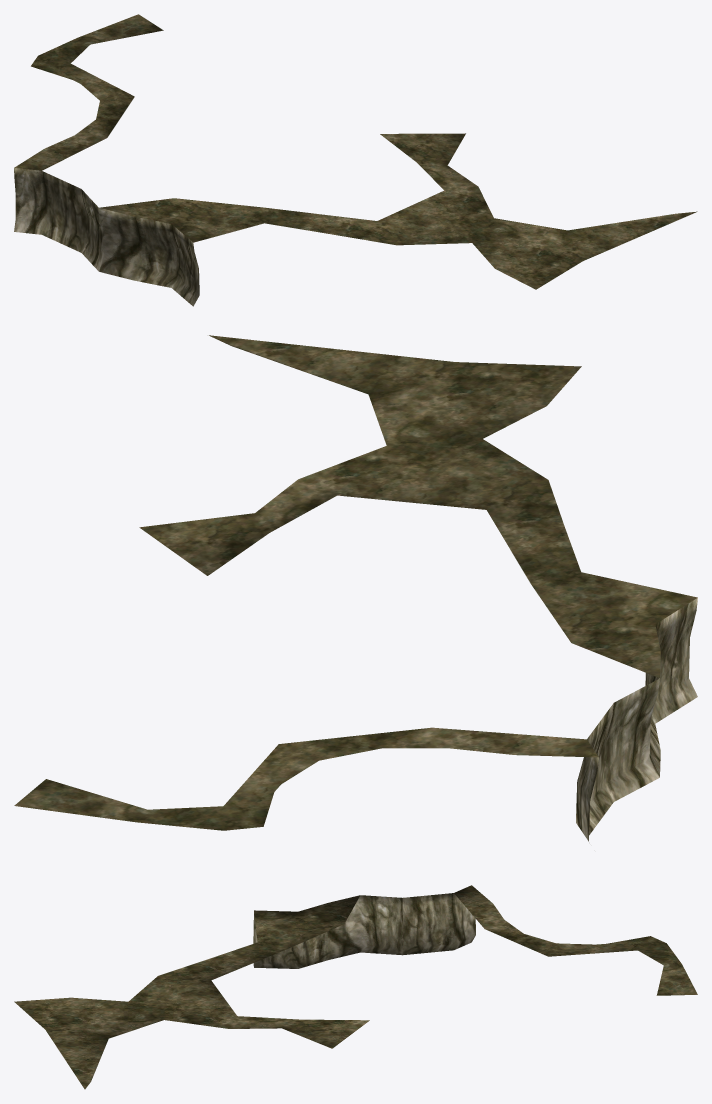
File: CB_NEWPLAYSURFACE_CB_PLAYSURFACE16.fbx
The picture shows the model from 3 angles, top to bottom: view 1: azimuth 30°, elevation 25°; view 2: azimuth 150°, elevation 25°; view 3: azimuth 270°, elevation 25°; orthographic projection. The views are drawn at different scales.
Parts seen in each view (by area): view 1: CB_NEWPLAYSURFACE_CB_PLAYSURFACE16; view 2: CB_NEWPLAYSURFACE_CB_PLAYSURFACE16; view 3: CB_NEWPLAYSURFACE_CB_PLAYSURFACE16.
Boxes of the visible parts, x1,y1,x2,y2 form: CB_NEWPLAYSURFACE_CB_PLAYSURFACE16: [14, 14, 697, 306]; CB_NEWPLAYSURFACE_CB_PLAYSURFACE16: [14, 335, 697, 841]; CB_NEWPLAYSURFACE_CB_PLAYSURFACE16: [14, 885, 697, 1089].
Bounding box in the file's own units: 306002 × 40000 × 432199.
Materials: 2 (2 with a texture image).
